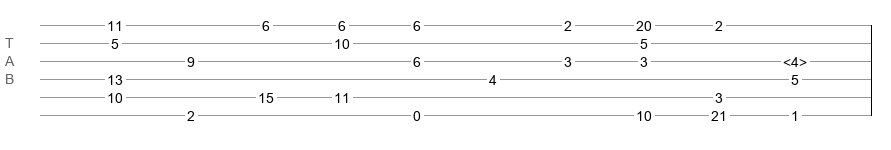0: (413, 108, 421, 118)
1: (791, 108, 799, 118)
10: (107, 90, 123, 100), (334, 36, 350, 46), (636, 108, 652, 118)
11: (107, 18, 123, 28), (334, 90, 350, 100)
13: (107, 72, 123, 82)
15: (258, 90, 274, 100)
2: (187, 108, 195, 118), (564, 18, 572, 28), (715, 18, 723, 28)
20: (636, 18, 652, 28)
21: (711, 108, 727, 118)
3: (564, 54, 572, 64), (640, 54, 648, 64), (715, 90, 723, 100)
4: (489, 72, 497, 82)
5: (111, 36, 119, 46), (640, 36, 648, 46), (791, 72, 799, 82)
6: (262, 18, 270, 28), (338, 18, 346, 28), (413, 18, 421, 28), (413, 54, 421, 64)
9: (187, 54, 195, 64)
harmonic: (783, 54, 807, 64)
